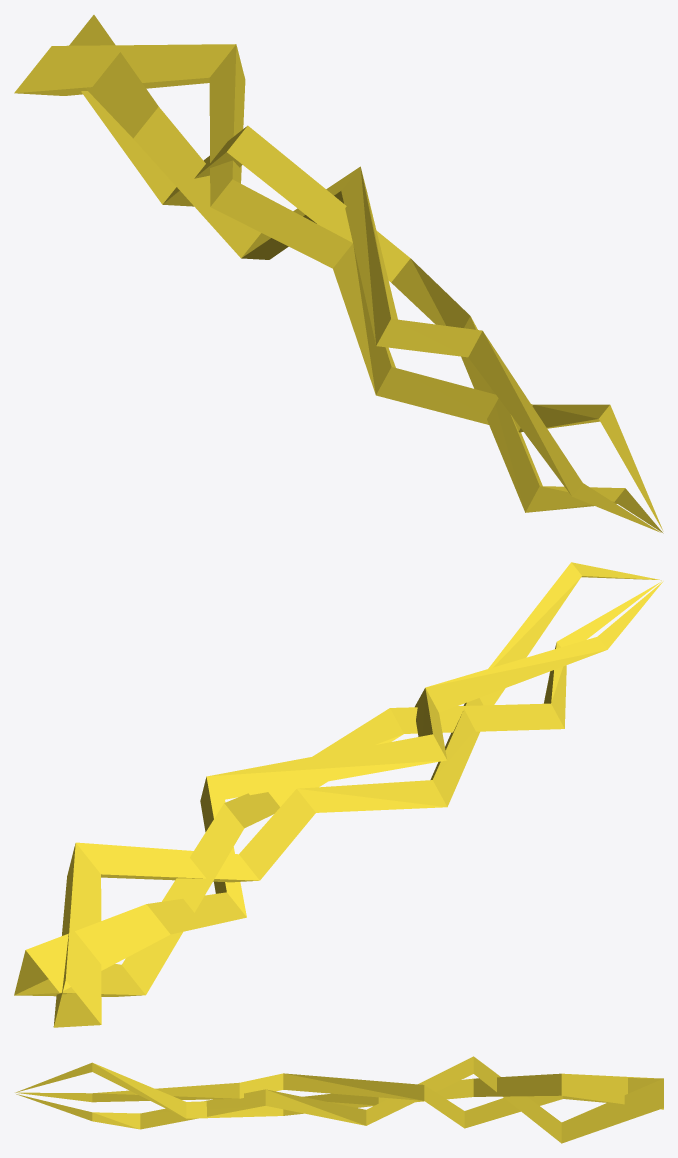
Rendered from CA_Lightning.FBX.
3 views of the same model, one above another, from view 1: azimuth 30°, elevation 25°; view 2: azimuth 150°, elevation 25°; view 3: azimuth 270°, elevation 25° (orthographic). The views are drawn at different scales.
Visible parts, largest first — view 1: Lightning002, Lightning001, Lightning003; view 2: Lightning002, Lightning001, Lightning003; view 3: Lightning003, Lightning002, Lightning001.
Part boxes in pixels (x1,y1,x2,y2): Lightning002: (14,44,663,531); Lightning001: (69,15,660,532); Lightning003: (81,91,663,533); Lightning002: (53,562,661,1027); Lightning001: (14,581,663,995); Lightning003: (15,581,661,996); Lightning003: (16,1056,663,1143); Lightning002: (16,1062,663,1118); Lightning001: (16,1073,662,1128).
Bounding box in the file's own units: 85.91 × 684 × 93.11.
